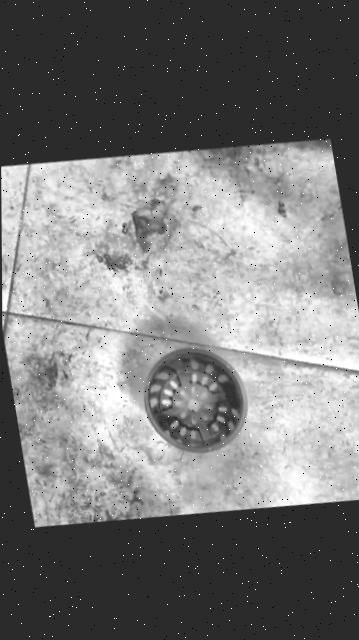pot: (137, 336, 253, 464)
